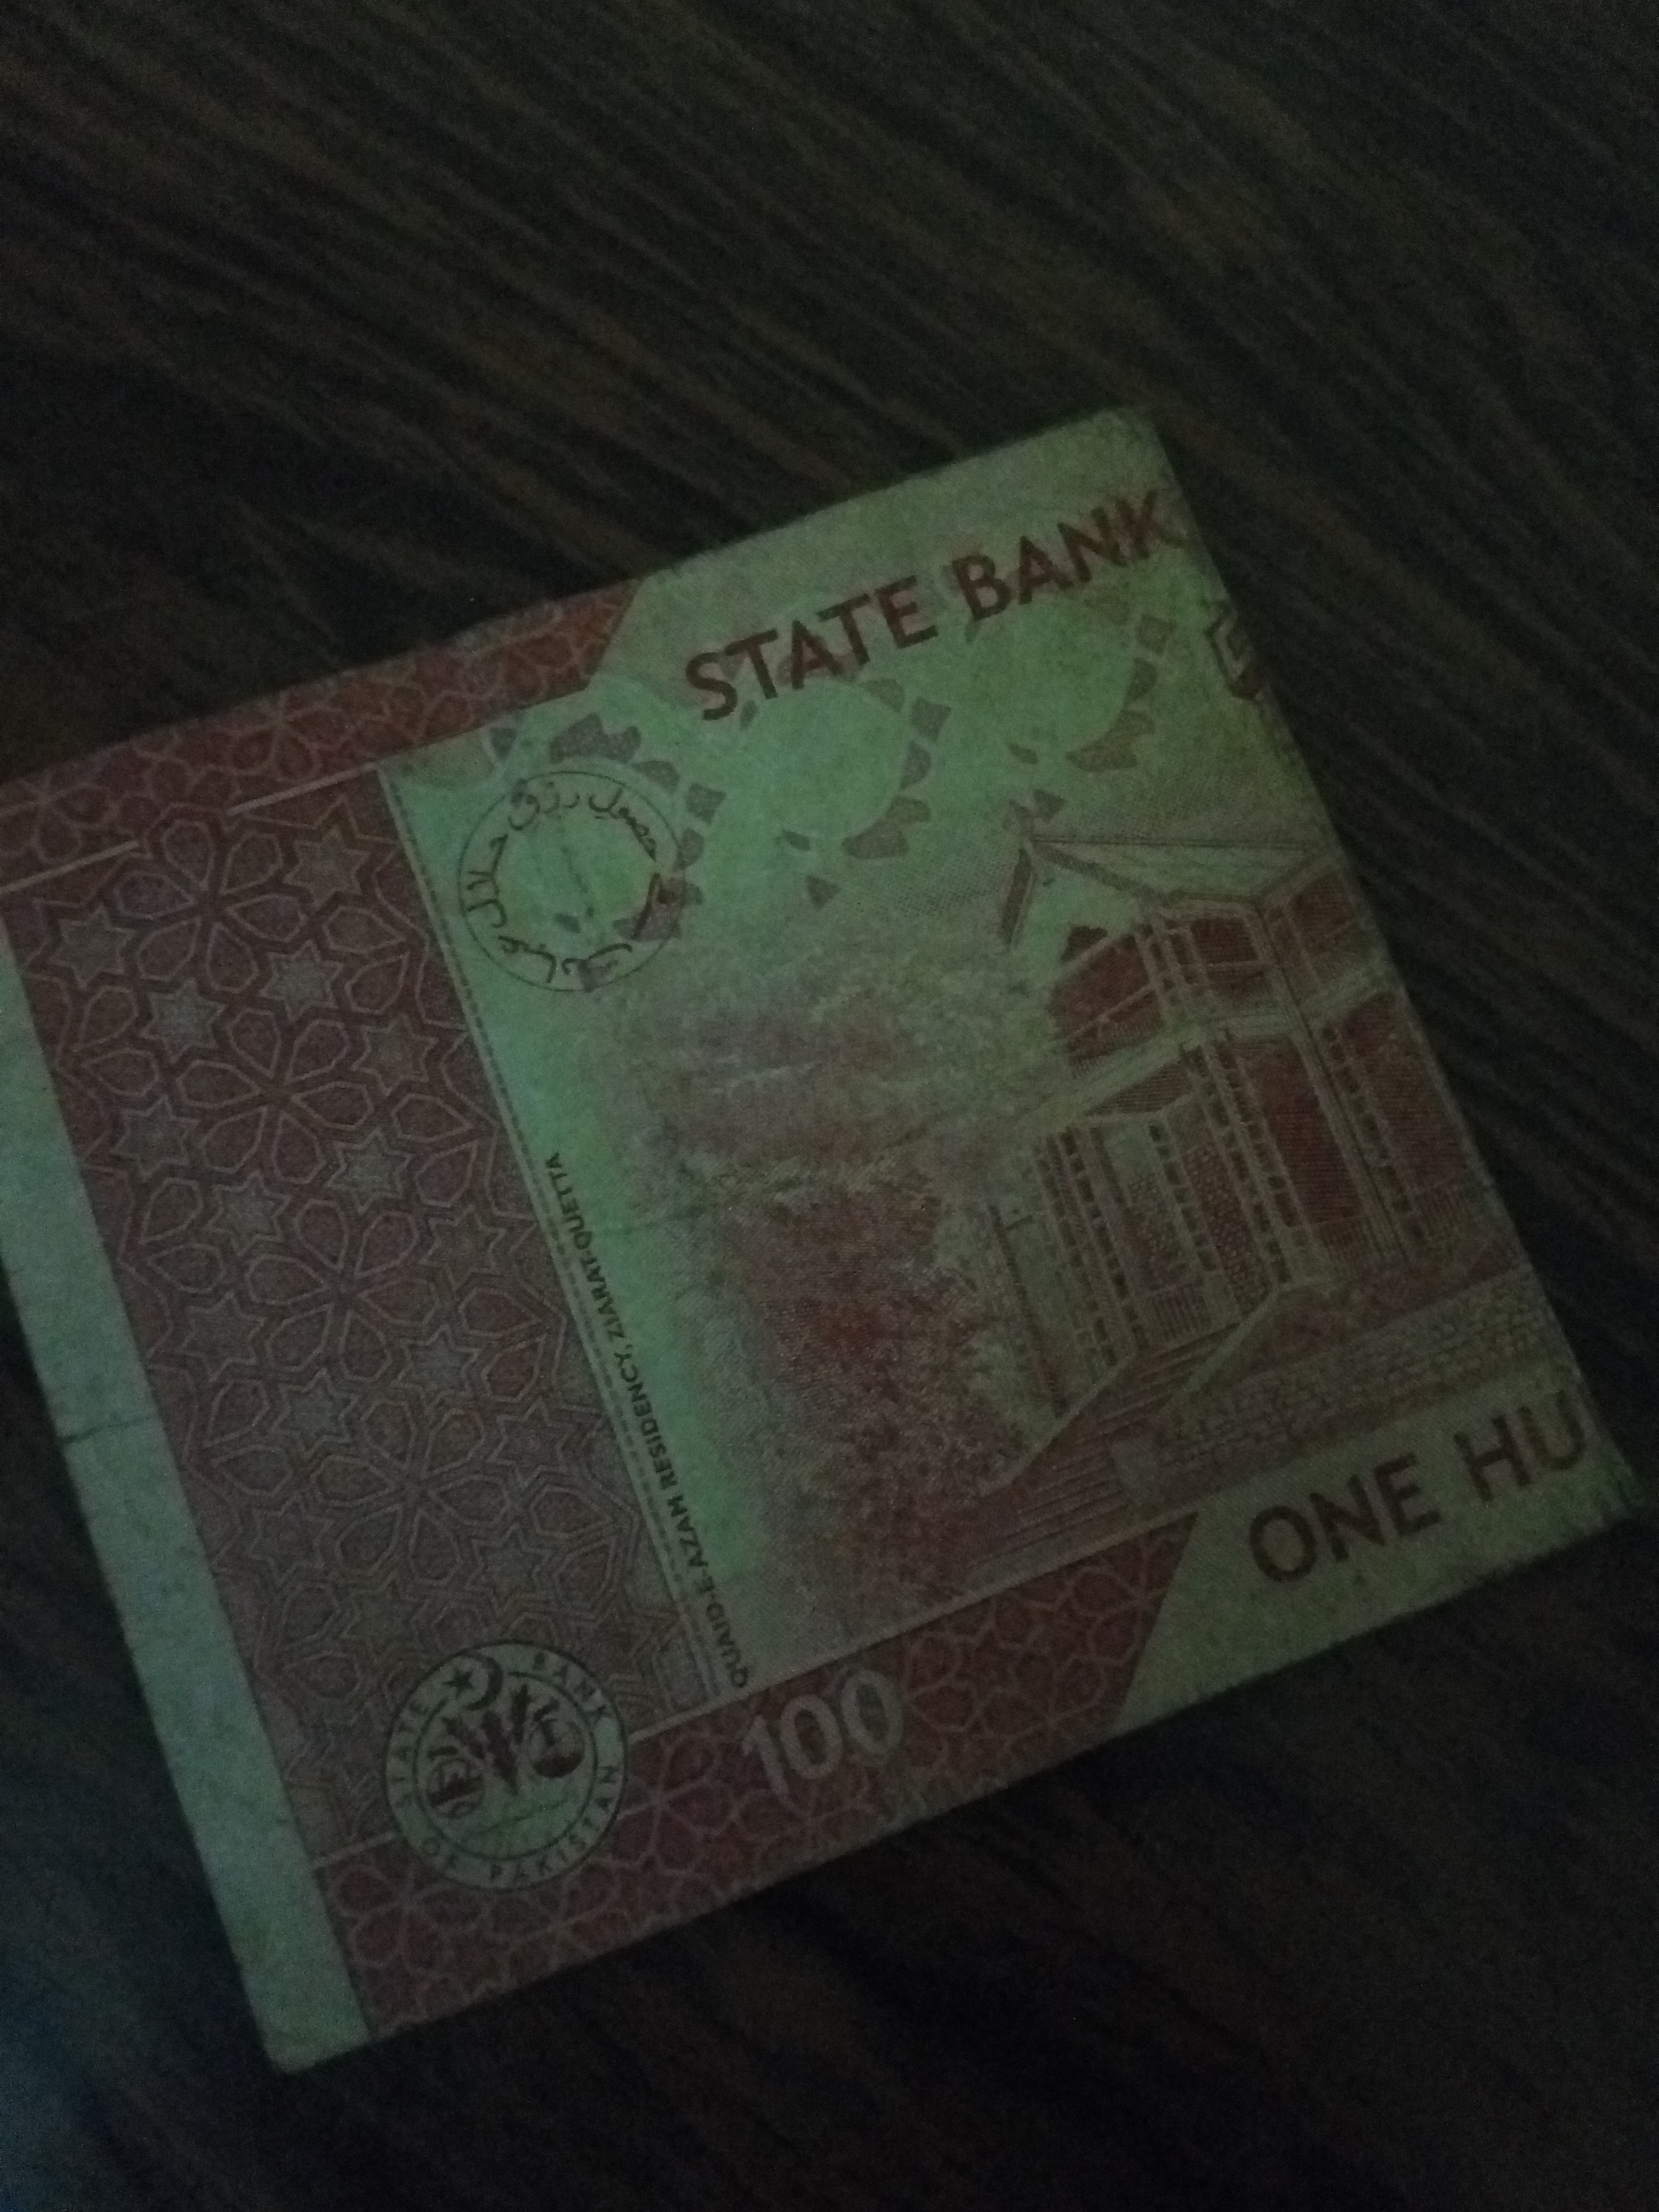100 rupee: (10, 387, 1649, 2085)
